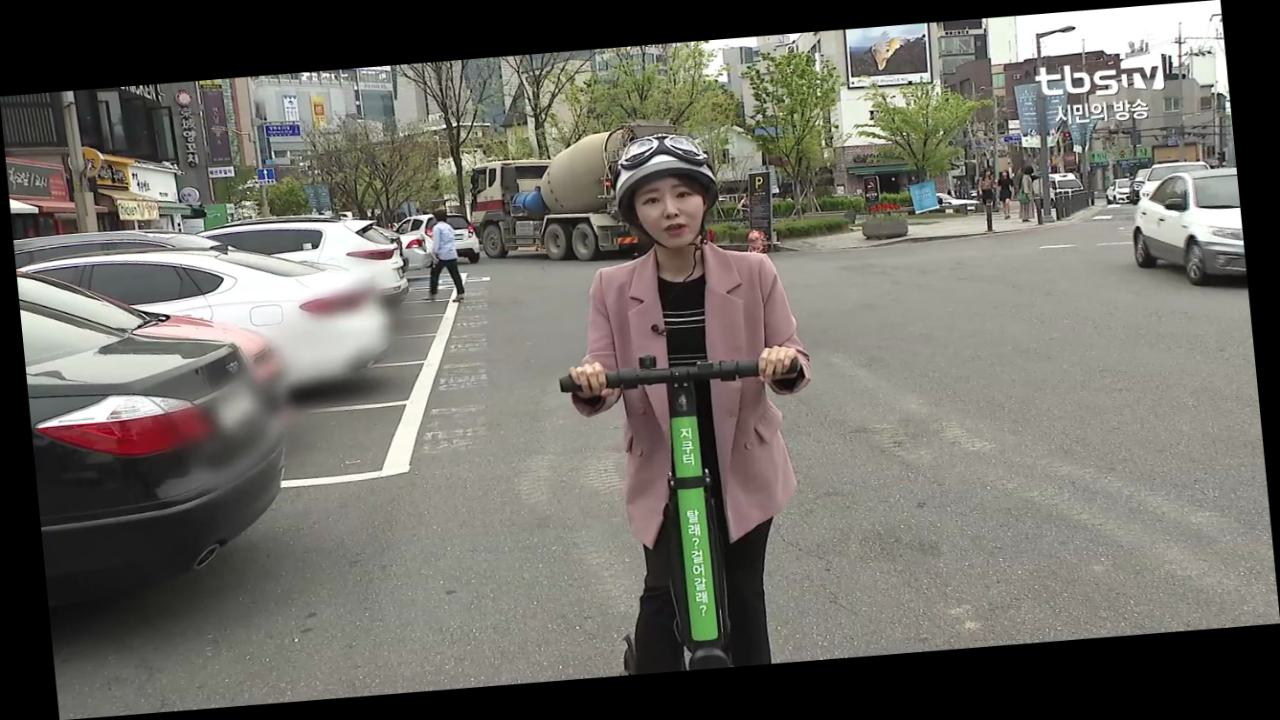helmet: (529, 122, 847, 679)
